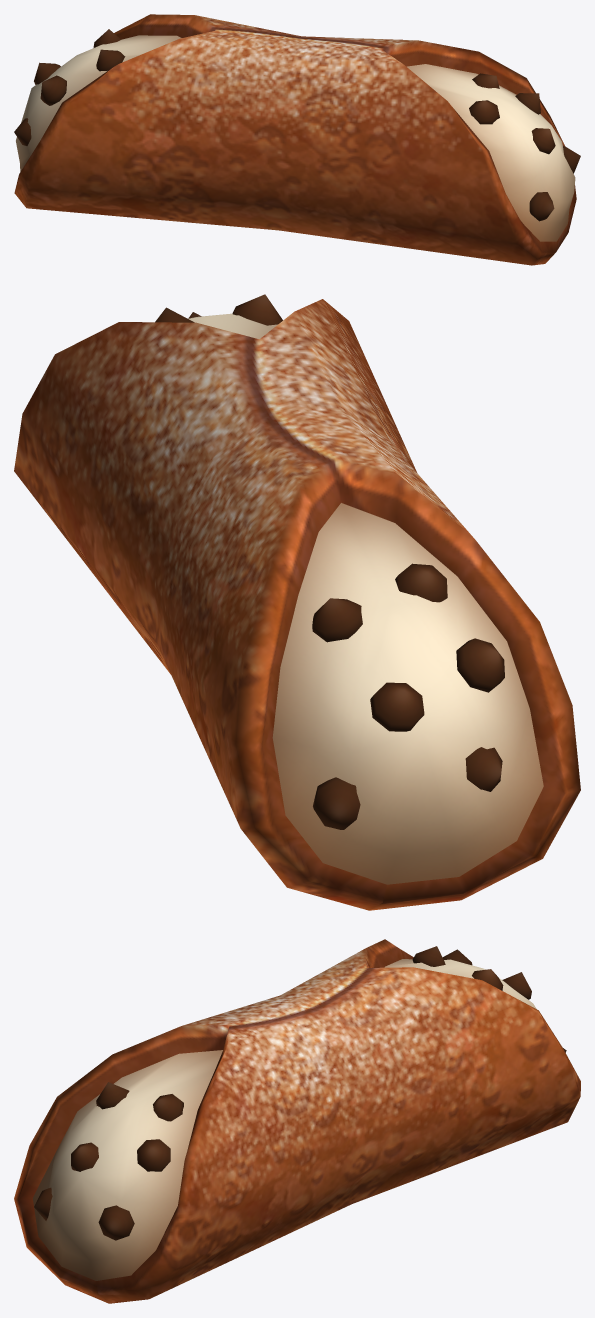
Rendered from 009-Cannolis01.FBX.
The picture shows the model from 3 angles, top to bottom: view 1: azimuth 30°, elevation 25°; view 2: azimuth 150°, elevation 25°; view 3: azimuth 270°, elevation 25°; orthographic projection. The views are drawn at different scales.
Visible parts, largest first — view 1: 009-Cannolis01; view 2: 009-Cannolis01; view 3: 009-Cannolis01.
Part boxes in pixels (x1=…): 009-Cannolis01: x1=14, y1=14, x2=580, y2=265; 009-Cannolis01: x1=14, y1=294, x2=580, y2=910; 009-Cannolis01: x1=14, y1=939, x2=580, y2=1303.
Bounding box in the file's own units: 18.09 × 7.36 × 18.09.
